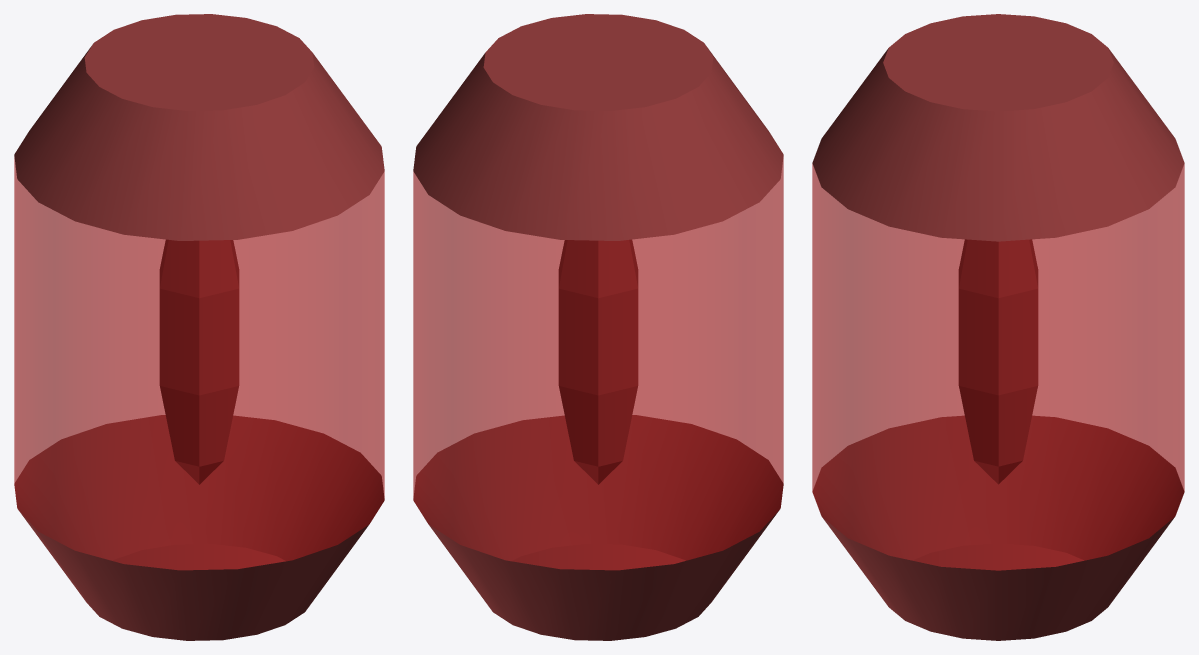
The model's file is soin.fbx.
3 renders of one model, left to right at view 1: azimuth 30°, elevation 25°; view 2: azimuth 150°, elevation 25°; view 3: azimuth 270°, elevation 25°, orthographic.
Visible parts, largest first — view 1: pPipe1, pSphere1; view 2: pPipe1, pSphere1; view 3: pPipe1, pSphere1.
Boxes of the visible parts, x1=… form: pPipe1: x1=14, y1=14, x2=384, y2=640; pSphere1: x1=159, y1=239, x2=239, y2=484; pPipe1: x1=413, y1=14, x2=783, y2=640; pSphere1: x1=558, y1=239, x2=638, y2=484; pPipe1: x1=812, y1=14, x2=1184, y2=640; pSphere1: x1=958, y1=239, x2=1038, y2=484.
Size of the model in its own units: 7.73 by 12.12 by 7.73.
